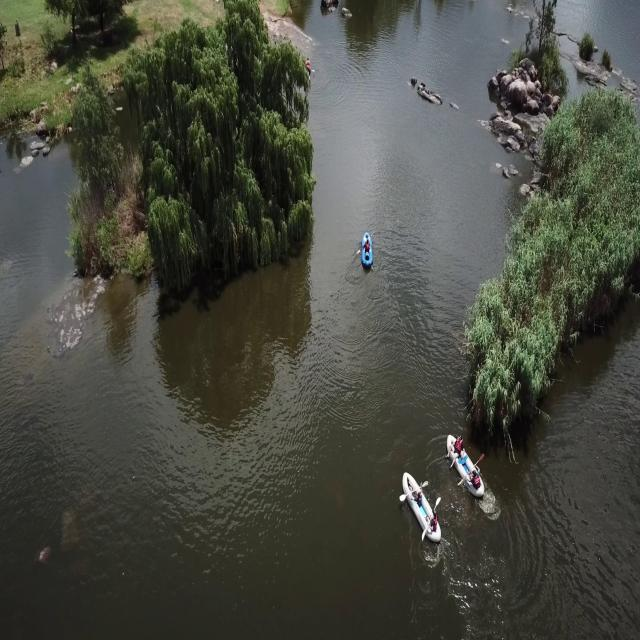kayak: (398, 466, 443, 546), (444, 431, 486, 504), (358, 228, 374, 270)
